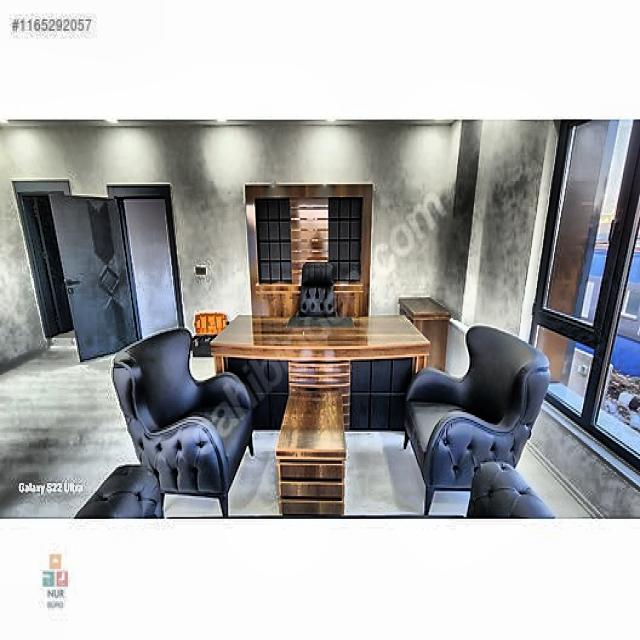sofa: (402, 323, 550, 514), (110, 327, 254, 517)
